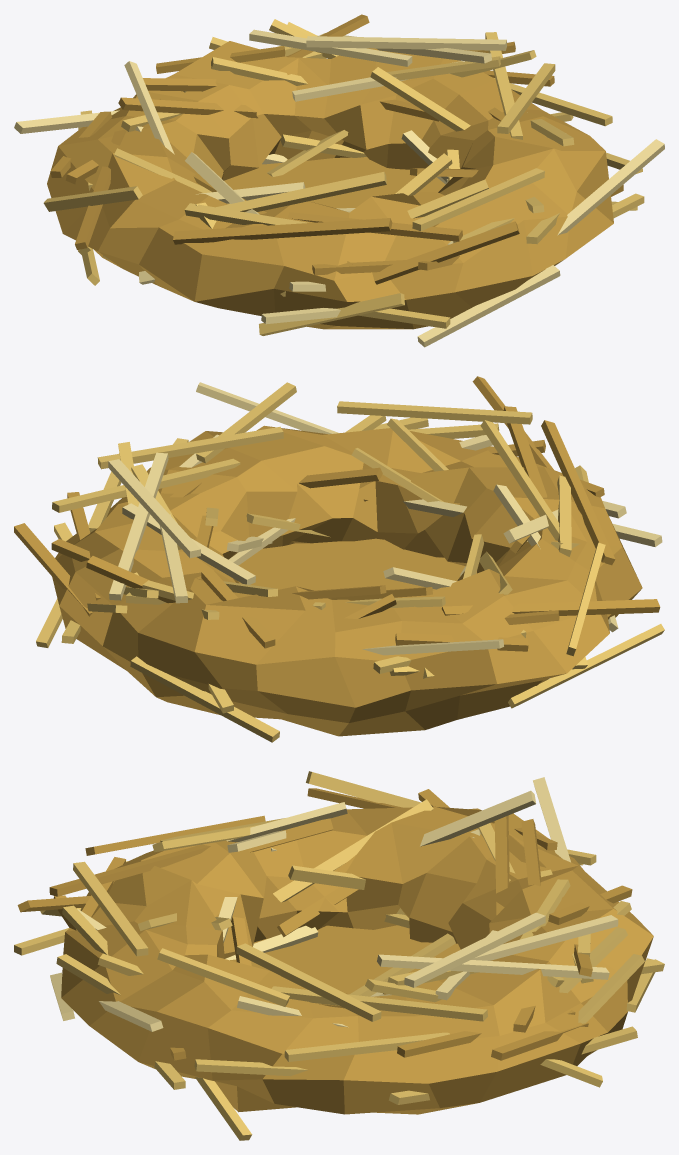
File: nest-D7de0KZM.glb
The picture shows the model from 3 angles, top to bottom: view 1: azimuth 30°, elevation 25°; view 2: azimuth 150°, elevation 25°; view 3: azimuth 270°, elevation 25°; orthographic projection. The views are drawn at different scales.
Parts seen in each view (by area): view 1: body; view 2: body; view 3: body.
Boxes of the visible parts, <box> form: body: <box>14,14,664,347</box>; body: <box>14,376,664,742</box>; body: <box>14,771,664,1140</box>.
Size of the model in its own units: 0.603 by 0.1673 by 0.5867.
